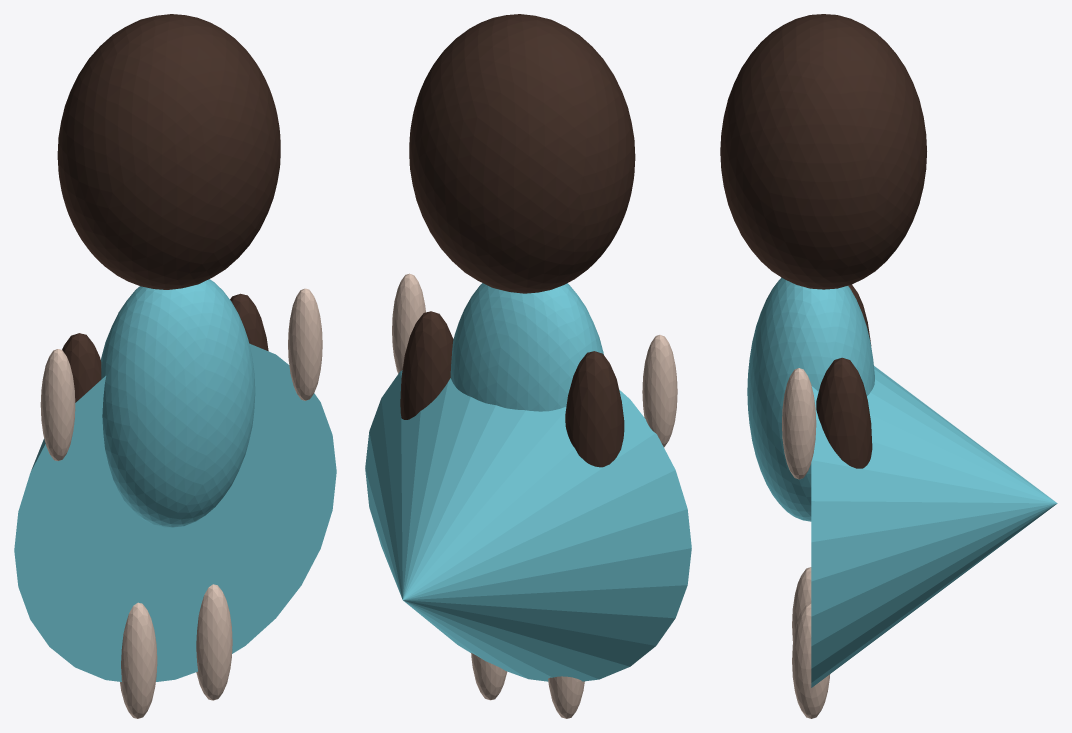
The model's file is girl.glb.
3 renders of one model, left to right at view 1: azimuth 30°, elevation 25°; view 2: azimuth 150°, elevation 25°; view 3: azimuth 270°, elevation 25°, orthographic. The views are drawn at different scales.
Visible parts, largest first — view 1: skirt, hair, body, leg_l, leg_r, arm_r, arm_l, hair_l, hair_r; view 2: skirt, hair, body, hair_l, hair_r, arm_l, arm_r, leg_l, leg_r; view 3: hair, skirt, body, hair_r, arm_r, leg_r, leg_l.
Boxes of the visible parts, x1=… form: skirt: x1=14, y1=343, x2=336, y2=681; hair: x1=57, y1=14, x2=280, y2=289; body: x1=101, y1=279, x2=255, y2=527; leg_l: x1=120, y1=602, x2=157, y2=718; leg_r: x1=196, y1=584, x2=232, y2=700; arm_r: x1=288, y1=288, x2=322, y2=400; arm_l: x1=40, y1=349, x2=75, y2=460; hair_l: x1=62, y1=333, x2=101, y2=402; hair_r: x1=230, y1=293, x2=268, y2=351; skirt: x1=365, y1=339, x2=691, y2=681; hair: x1=409, y1=14, x2=635, y2=293; body: x1=450, y1=283, x2=603, y2=411; hair_l: x1=565, y1=351, x2=624, y2=467; hair_r: x1=400, y1=311, x2=453, y2=419; arm_l: x1=642, y1=335, x2=677, y2=447; arm_r: x1=392, y1=273, x2=425, y2=373; leg_l: x1=548, y1=676, x2=584, y2=718; leg_r: x1=471, y1=653, x2=507, y2=700; hair: x1=720, y1=14, x2=926, y2=289; skirt: x1=811, y1=366, x2=1057, y2=687; body: x1=747, y1=277, x2=874, y2=521; hair_r: x1=816, y1=357, x2=872, y2=468; arm_r: x1=782, y1=368, x2=816, y2=479; leg_r: x1=792, y1=603, x2=830, y2=718; leg_l: x1=792, y1=567, x2=811, y2=642.
Bounding box in the file's own units: 0.6 × 1.22 × 0.548.
